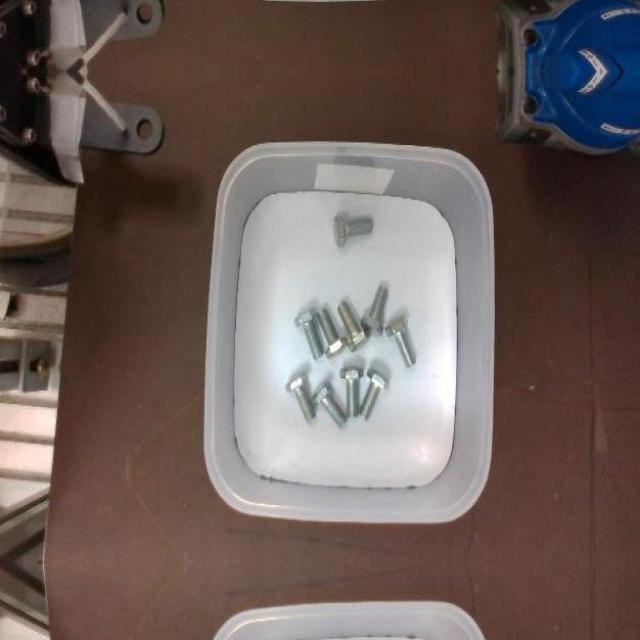screw: (309, 377, 346, 428), (284, 370, 316, 422), (358, 366, 389, 419), (337, 300, 369, 350), (293, 306, 323, 359), (384, 314, 415, 365), (316, 307, 346, 357), (361, 284, 388, 336), (333, 214, 373, 246), (340, 364, 364, 417)
